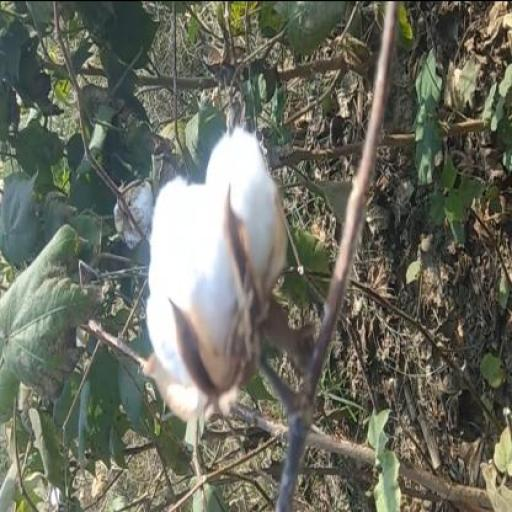cotton_ready: (136, 127, 334, 454)
